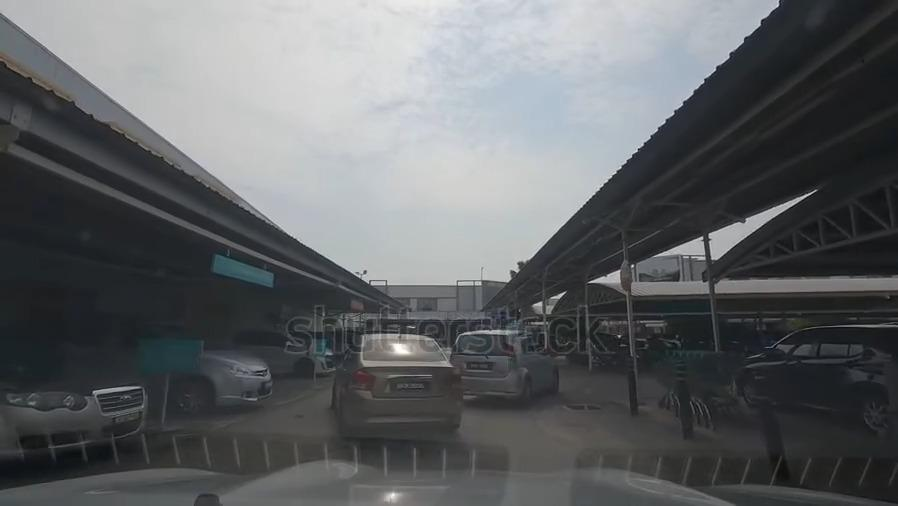car: (331, 338, 466, 440), (736, 325, 898, 408), (0, 359, 148, 444), (139, 331, 275, 403), (453, 329, 555, 400), (231, 330, 337, 380)
manhole: (558, 400, 599, 414)
wheel: (173, 375, 211, 413), (293, 356, 314, 379), (520, 377, 532, 407), (550, 369, 559, 396)
